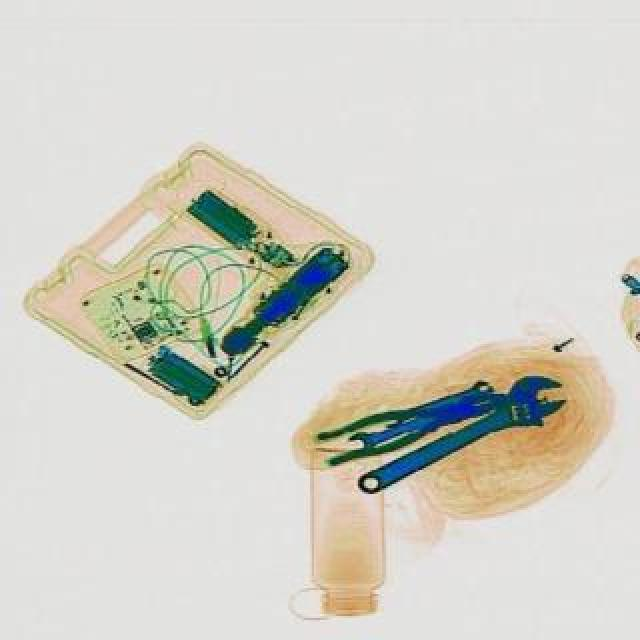scissors: (344, 362, 576, 514), (380, 378, 492, 430), (342, 404, 442, 456)
wrench: (314, 378, 514, 470)
